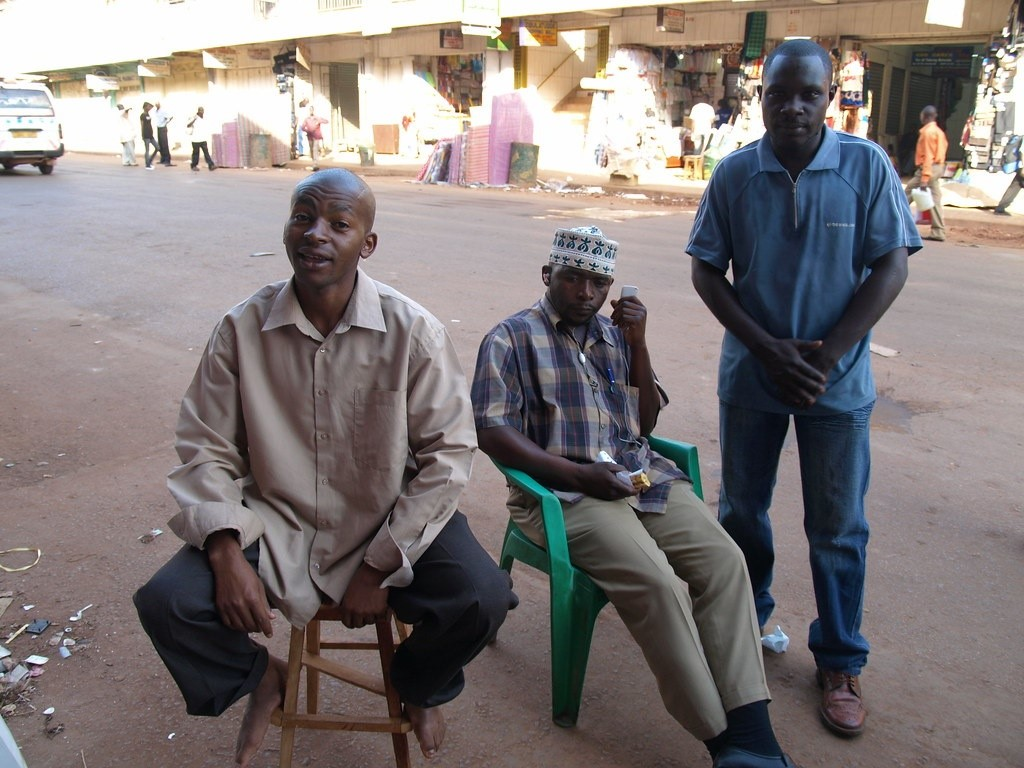face_no_mask: (283, 172, 377, 291), (752, 39, 841, 153)
